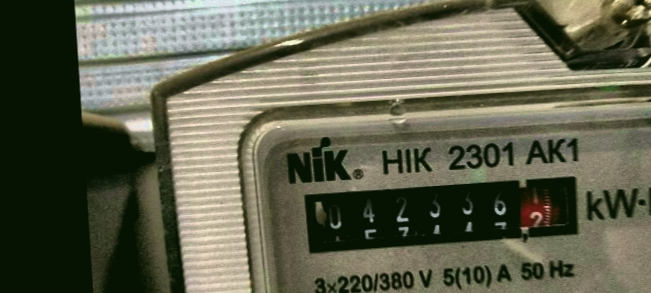0: (322, 201, 340, 230)
1: (524, 183, 538, 205)
2: (390, 193, 408, 223), (524, 208, 541, 227)
3: (453, 186, 471, 217), (422, 190, 438, 219)
4: (356, 194, 375, 224)
6: (487, 186, 506, 217)
screen: (289, 163, 589, 262)
